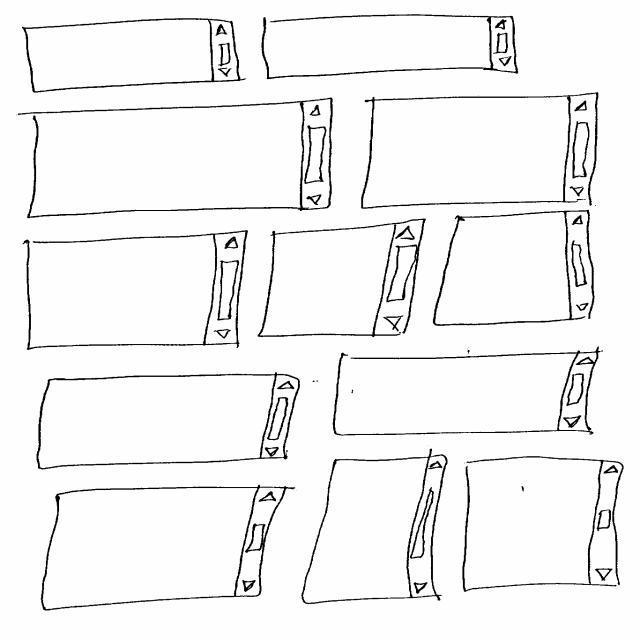textarea: (18, 98, 334, 219), (42, 486, 296, 612), (362, 94, 599, 210), (23, 231, 249, 351), (37, 373, 301, 470), (333, 348, 604, 436), (302, 449, 448, 605), (463, 457, 624, 593), (258, 219, 426, 338), (434, 211, 595, 327), (23, 19, 247, 94), (262, 15, 519, 80)
